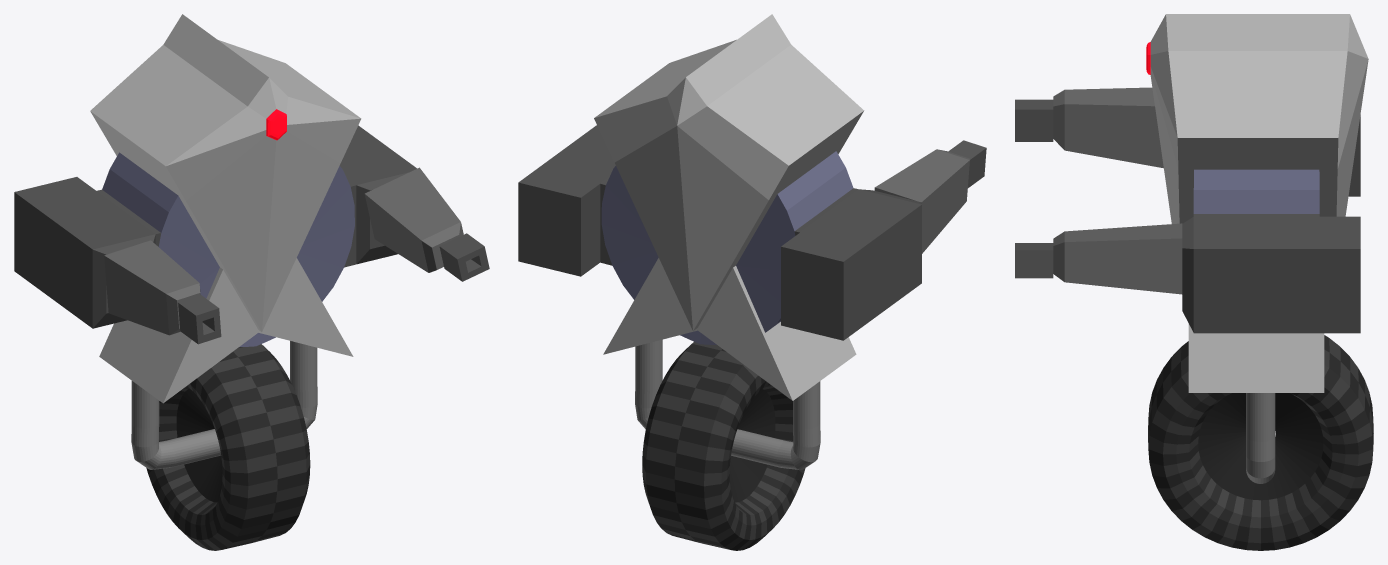
Rendered from robot1Enemigo.fbx.
3 views of the same model, side by side, from view 1: azimuth 30°, elevation 25°; view 2: azimuth 150°, elevation 25°; view 3: azimuth 270°, elevation 25° (orthographic). The views are drawn at different scales.
Parts seen in each view (by area): view 1: Body, Wheel, GunLeft1, GunRight1, WheelCyl, GunLeft2, GunRight2; view 2: Body, Wheel, WheelCyl, GunRight1, GunRight2; view 3: Body, Wheel, GunLeft1, GunRight1, WheelCyl, GunRight2, GunLeft2.
Boxes of the visible parts, x1,y1,x2,y2 form: Body: (14, 14, 416, 403); Wheel: (146, 344, 310, 550); GunLeft1: (364, 167, 463, 272); GunRight1: (104, 240, 200, 335); WheelCyl: (131, 341, 317, 469); GunLeft2: (439, 233, 489, 281); GunRight2: (178, 295, 221, 344); Body: (518, 14, 921, 400); Wheel: (642, 342, 805, 550); WheelCyl: (635, 339, 820, 469); GunRight1: (874, 149, 969, 253); GunRight2: (948, 140, 986, 187); Body: (1146, 14, 1368, 392); Wheel: (1148, 335, 1373, 550); GunLeft1: (1053, 223, 1182, 294); GunRight1: (1053, 87, 1163, 168); WheelCyl: (1246, 393, 1275, 483); GunRight2: (1015, 99, 1053, 141); GunLeft2: (1015, 243, 1053, 278).
Size of the model in its own units: 419 by 594 by 370.
